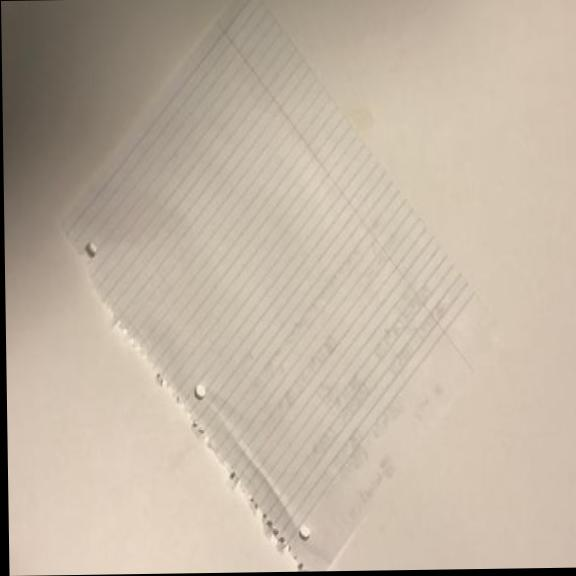Kertas: (47, 0, 506, 575)
